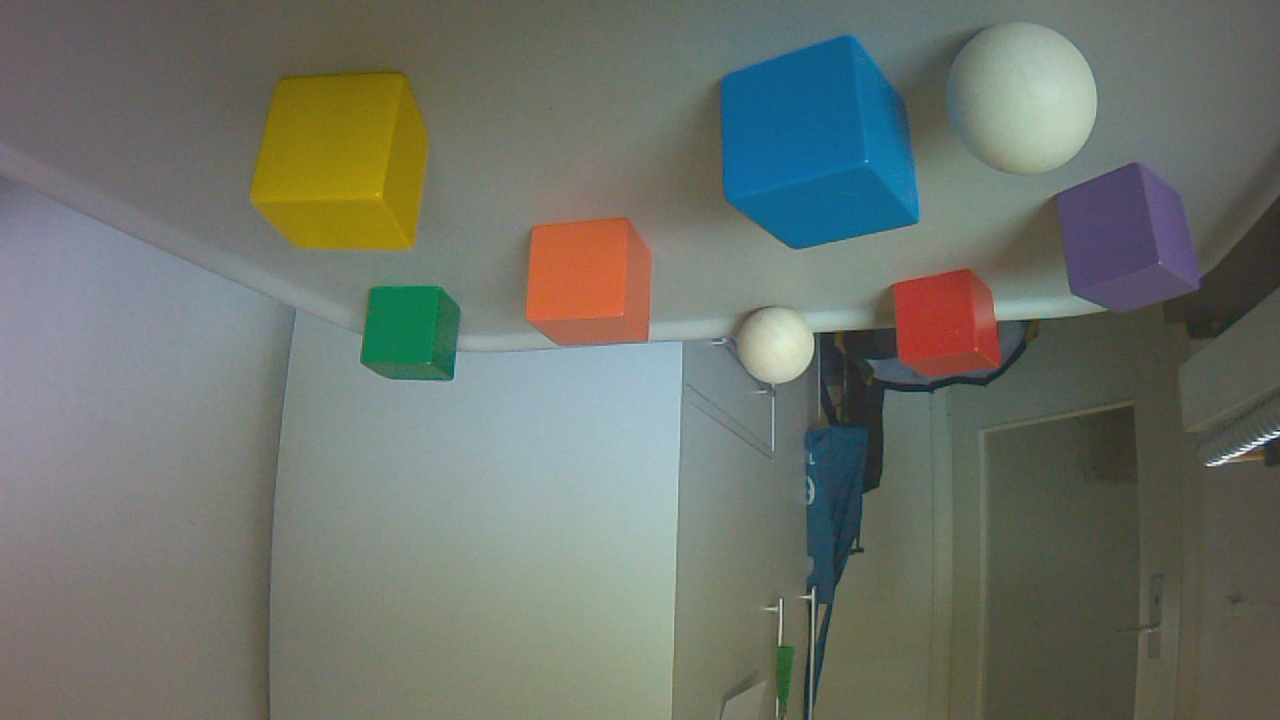ball: (946, 24, 1105, 185), (737, 310, 821, 393)
cube_blue: (722, 34, 926, 259)
cube_green: (363, 288, 468, 390)
cube_orange: (527, 221, 662, 354)
cube_purple: (1054, 163, 1205, 320)
cube_red: (896, 273, 1008, 386)
cube_yellow: (251, 75, 436, 260)
